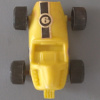amarillo_norte: (12, 2, 85, 98)
